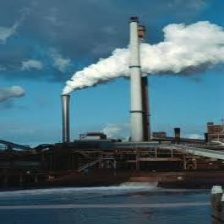smoke: (57, 22, 223, 102)
